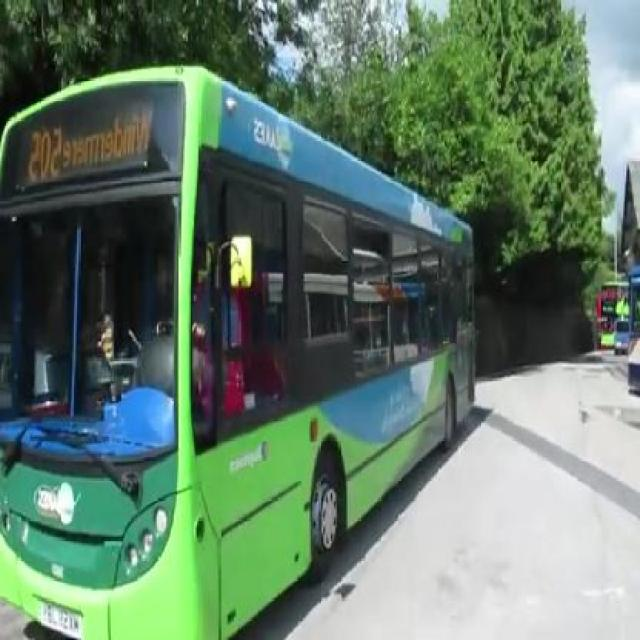bus: (1, 65, 473, 640)
